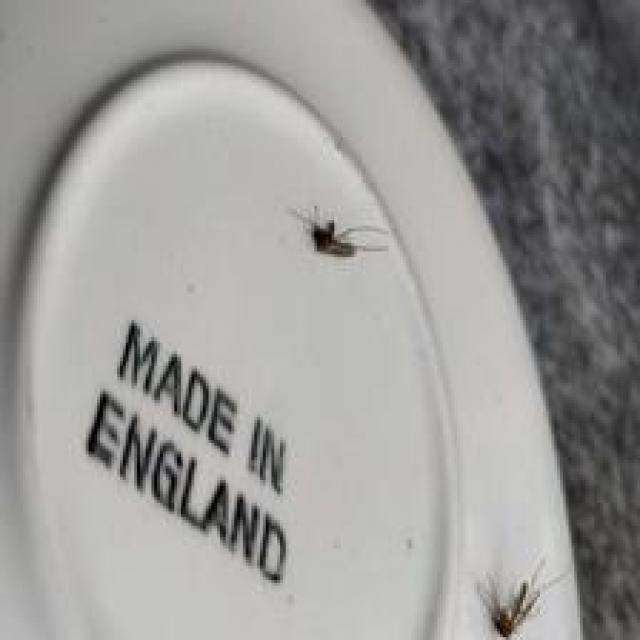Culex: (290, 204, 390, 259)
